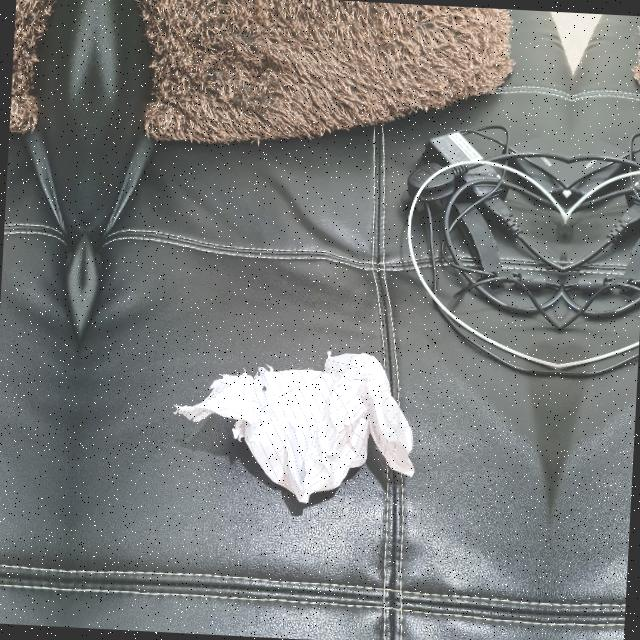paper: (166, 346, 427, 508)
